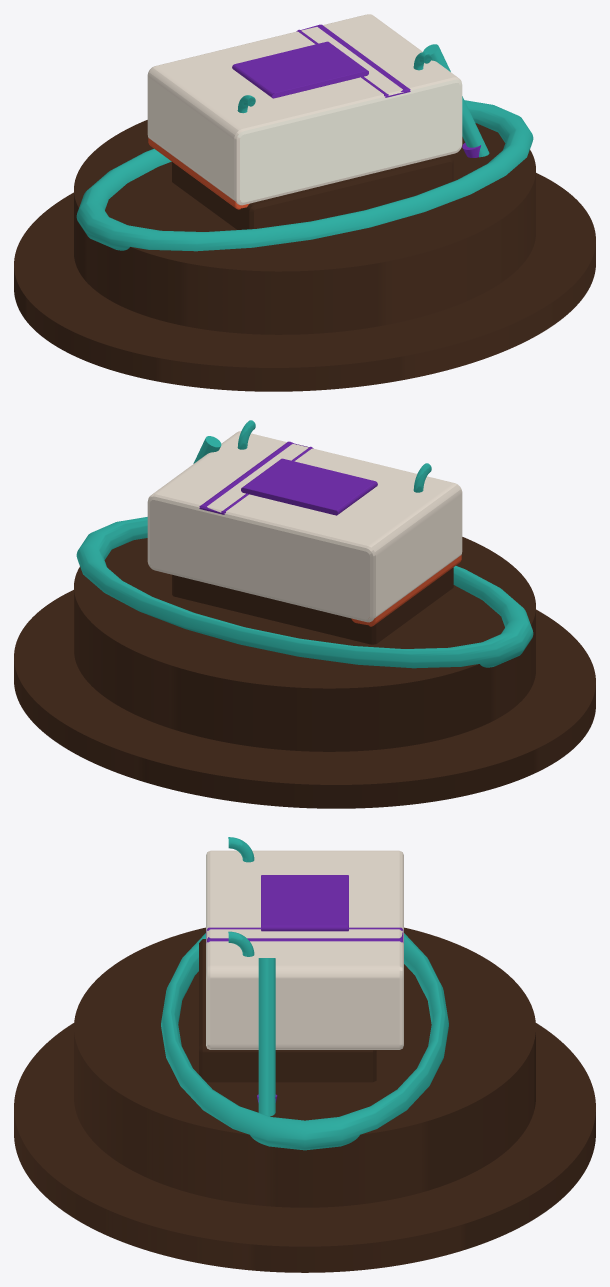
The model's file is 1079_古文观止_《谏太宗十思疏》.glb.
3 renders of one model, top to bottom at view 1: azimuth 30°, elevation 25°; view 2: azimuth 150°, elevation 25°; view 3: azimuth 270°, elevation 25°, orthographic. The views are drawn at different scales.
Visible parts, largest first — view 1: card_1079; view 2: card_1079; view 3: card_1079.
Part boxes in pixels (x1,y1,x2,y2): card_1079: (14,14,595,391); card_1079: (14,420,595,808); card_1079: (14,837,595,1272).
Size of the model in its own units: 2.4 by 1 by 2.12.
